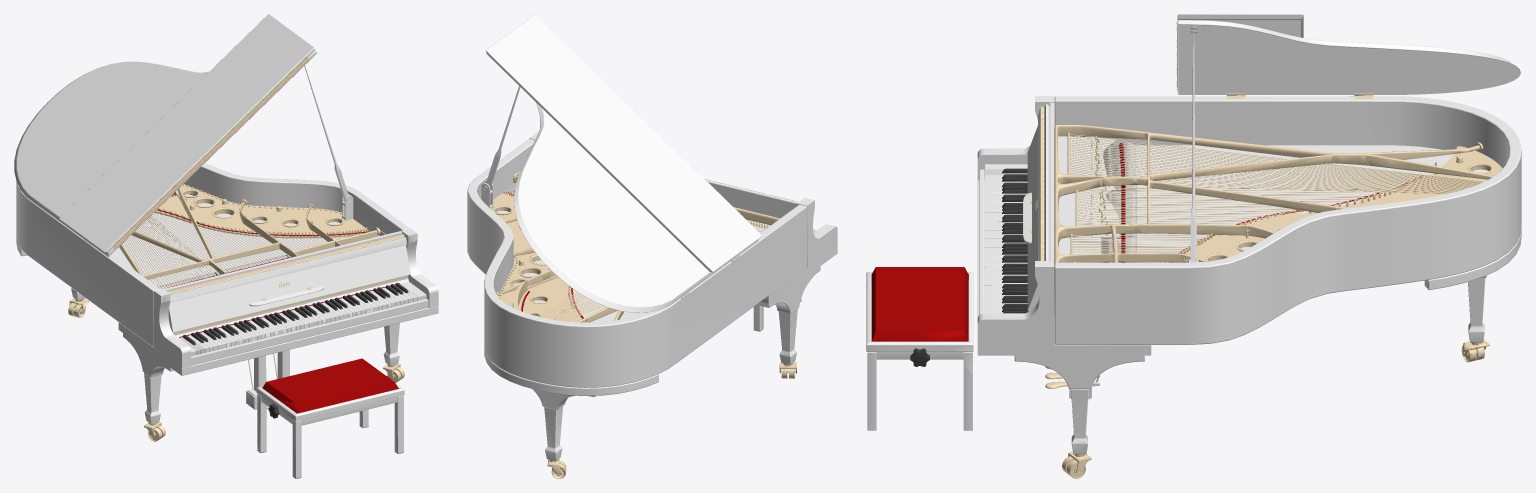
File: piano.glb
3 views of the same model, side by side, from view 1: azimuth 30°, elevation 25°; view 2: azimuth 150°, elevation 25°; view 3: azimuth 270°, elevation 25° (orthographic). The views are drawn at different scales.
Visible parts, largest first — view 1: Back_Pedal_Center, Back_For_Holes, Bottom_Do_Key; view 2: Back_Pedal_Center, Back_For_Holes; view 3: Back_Pedal_Center, Back_For_Holes, Bottom_Do_Key.
Part boxes in pixels (x1=…): Back_Pedal_Center: x1=14, y1=14, x2=438, y2=478; Back_For_Holes: x1=36, y1=56, x2=408, y2=441; Bottom_Do_Key: x1=170, y1=237, x2=417, y2=478; Back_Pedal_Center: x1=467, y1=14, x2=837, y2=460; Back_For_Holes: x1=491, y1=171, x2=798, y2=478; Back_Pedal_Center: x1=866, y1=14, x2=1521, y2=454; Back_For_Holes: x1=1030, y1=18, x2=1502, y2=478; Bottom_Do_Key: x1=867, y1=109, x2=1044, y2=429.
Bounding box in the file's own units: 150 × 175 × 239.
4 materials, 4 textured.
